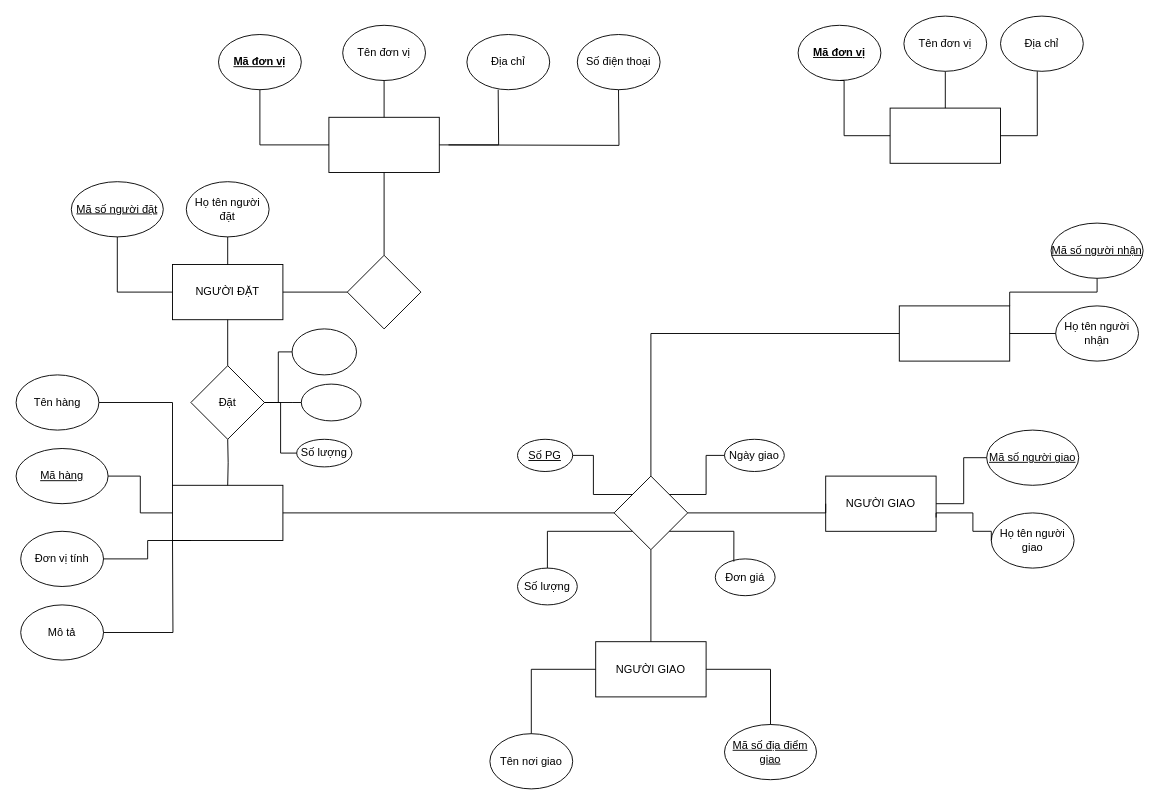
Image size: 1159x805. Some labels were removed from this diagram. Here are the shapes that lost their labels. From the top down, the centre of each, then its label:
At (383,144): "ĐƠN VỊ ĐẶT HÀNG".
At (944,135): "ĐƠN VỊ KHÁCH HÀNG".
At (383,291): "Thuộc".
At (323,351): "Số đơn hàng".
At (954,333): "NGƯỜI NHẬN".
At (330,402): "Ngày đặt".
At (227,512): "HÀNG".
At (650,512): "Giao".
